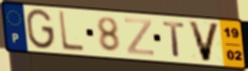8: (95, 16, 122, 53)
G: (26, 8, 56, 51)
L: (57, 10, 85, 53)
T: (161, 20, 186, 59)
V: (186, 19, 222, 63)
Z: (124, 17, 156, 57)
